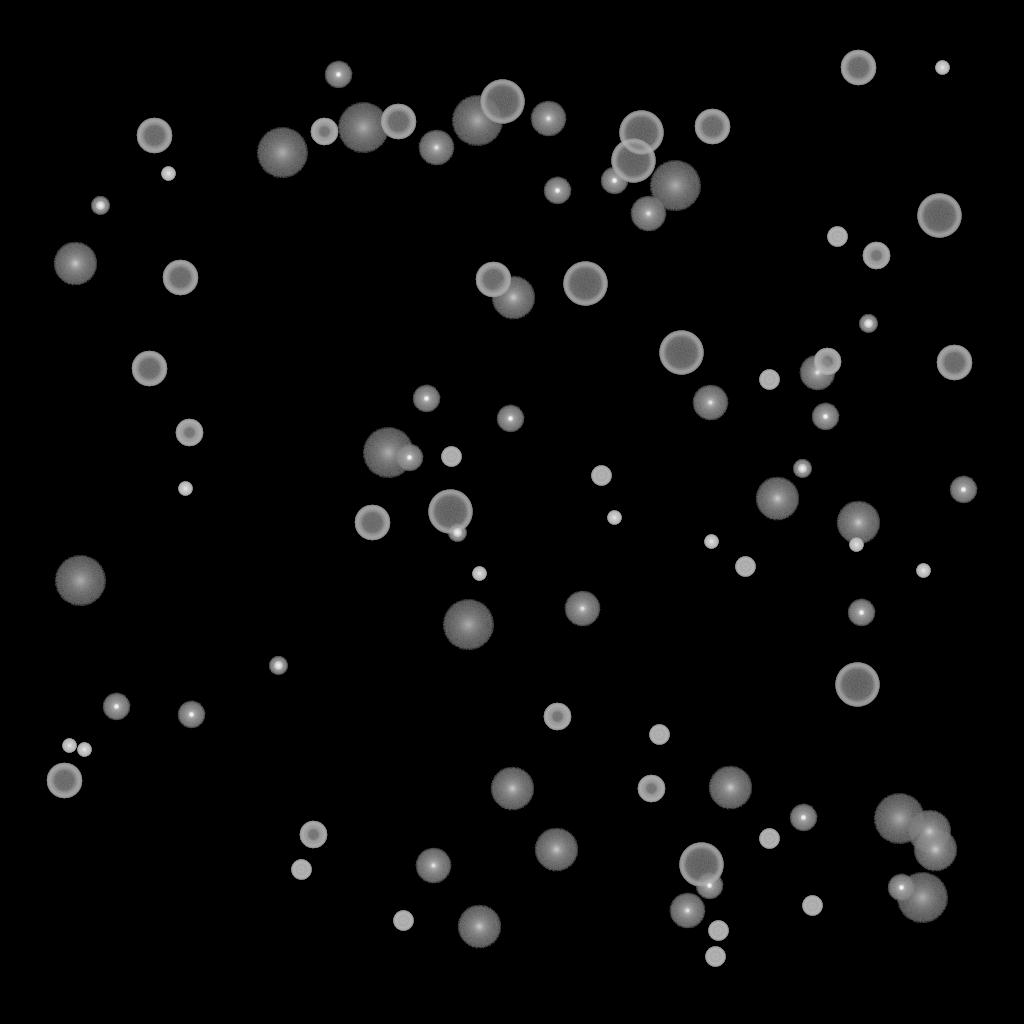depth:-10: (811, 403, 839, 431), (789, 804, 817, 832), (324, 61, 352, 89), (847, 599, 875, 627), (600, 167, 628, 195), (496, 405, 524, 433), (695, 872, 723, 900), (412, 385, 440, 413), (949, 476, 977, 504), (543, 177, 571, 205), (102, 693, 130, 721), (395, 444, 423, 472), (887, 874, 915, 902), (177, 701, 205, 729)
depth:-20: (269, 657, 287, 675), (448, 524, 466, 542), (91, 197, 109, 215), (859, 315, 877, 333), (793, 460, 811, 478)
depth:-30: (704, 535, 718, 549), (62, 739, 76, 753), (916, 564, 930, 578), (935, 61, 949, 75), (472, 567, 486, 581), (849, 538, 863, 552), (161, 167, 175, 181), (178, 482, 192, 496), (77, 743, 91, 757), (607, 511, 621, 525)
depth:-40: (591, 466, 611, 486), (649, 725, 669, 745), (802, 896, 822, 916), (291, 860, 311, 880), (735, 557, 755, 577), (827, 227, 847, 247), (393, 911, 413, 931), (705, 947, 725, 967), (759, 829, 779, 849), (759, 370, 779, 390), (708, 921, 728, 941), (441, 447, 461, 467)
depth:-50: (637, 775, 665, 803), (299, 821, 327, 849), (310, 118, 338, 146), (175, 419, 203, 447), (862, 242, 890, 270), (543, 703, 571, 731), (813, 348, 841, 376)
depth:-60: (136, 118, 172, 154), (162, 260, 198, 296), (46, 763, 82, 799), (936, 345, 972, 381), (475, 262, 511, 298), (131, 351, 167, 387), (354, 505, 390, 541), (380, 104, 416, 140), (694, 109, 730, 145), (840, 50, 876, 86)
depth:-70: (611, 139, 655, 183), (679, 843, 723, 887), (480, 80, 524, 124), (619, 111, 663, 155), (428, 490, 472, 534), (659, 331, 703, 375), (835, 663, 879, 707), (563, 262, 607, 306), (917, 194, 961, 238)
depth:0: (415, 848, 451, 884), (630, 196, 666, 232), (564, 591, 600, 627), (799, 355, 835, 391), (669, 893, 705, 929), (418, 130, 454, 166), (530, 101, 566, 137), (692, 385, 728, 421)
depth:10: (755, 477, 799, 521), (836, 501, 880, 545), (913, 828, 957, 872), (53, 242, 97, 286), (708, 766, 752, 810), (534, 828, 578, 872), (907, 810, 951, 854), (457, 905, 501, 949), (490, 767, 534, 811), (491, 276, 535, 320)
depth:20: (362, 428, 414, 478), (873, 794, 925, 844), (256, 128, 308, 178), (442, 600, 494, 650), (649, 161, 701, 211), (54, 556, 106, 606), (337, 103, 389, 153), (451, 96, 503, 146), (896, 873, 948, 923)
